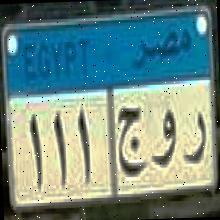1: (72, 107, 95, 186), (49, 112, 73, 187), (24, 111, 46, 192)
jeem: (114, 102, 146, 180)
raa: (184, 106, 208, 172)
waw: (150, 111, 182, 178)
